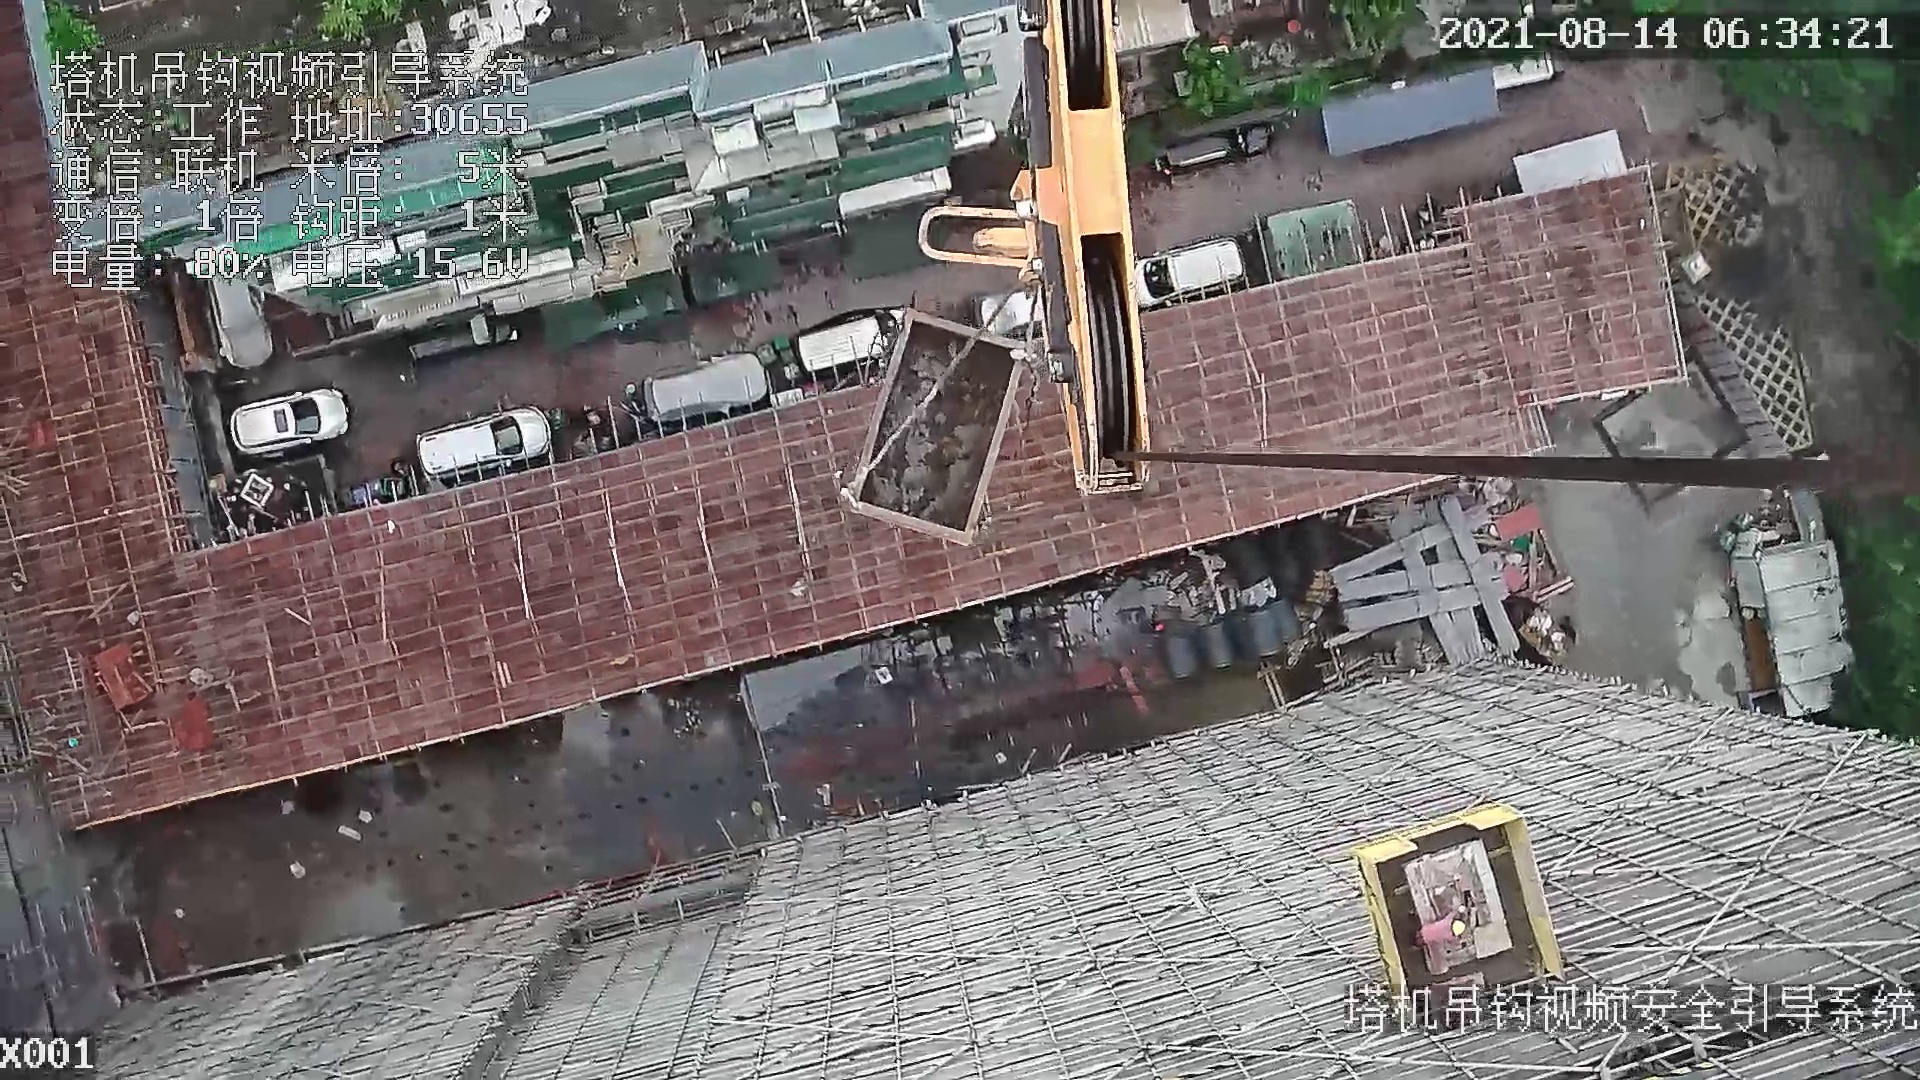helmet: (1452, 922, 1466, 935)
hook: (918, 1, 1147, 490)
hopper: (844, 299, 1047, 563)
person: (1395, 894, 1483, 955)
